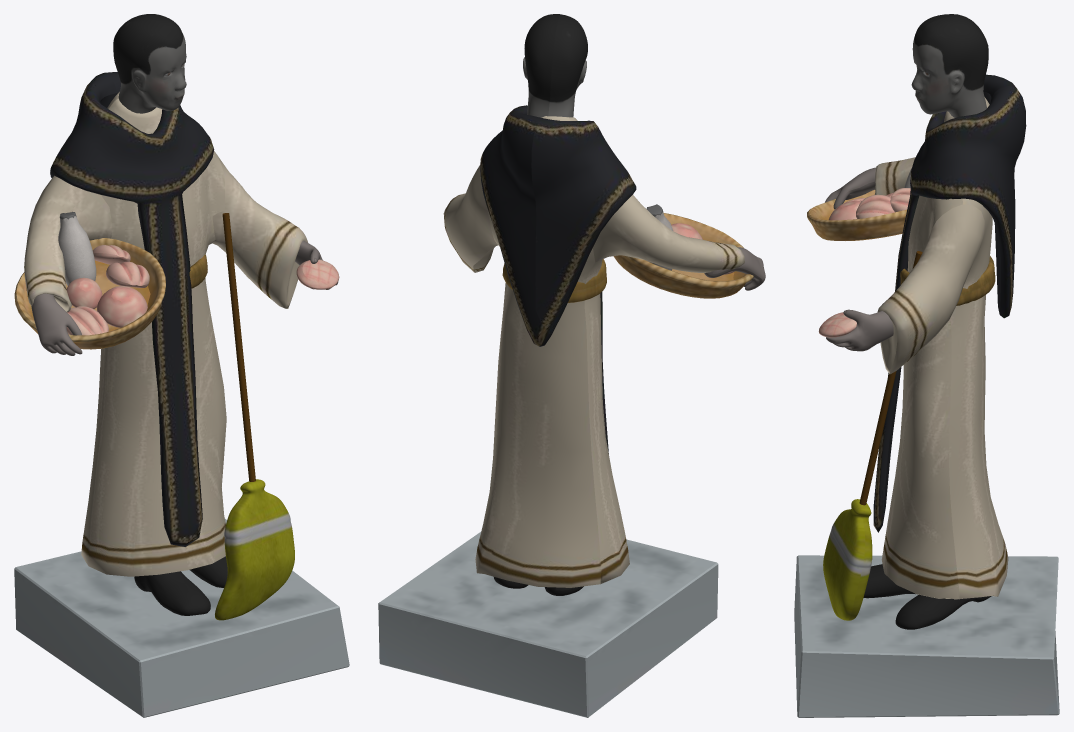
Rendered from scan-martino.glb.
3 views of the same model, side by side, from view 1: azimuth 30°, elevation 25°; view 2: azimuth 150°, elevation 25°; view 3: azimuth 270°, elevation 25° (orthographic). The views are drawn at different scales.
Visible parts, largest first — view 1: geometry_1, geometry_0, geometry_4, geometry_3, geometry_2; view 2: geometry_1, geometry_0, geometry_4, geometry_2; view 3: geometry_1, geometry_0, geometry_4, geometry_3, geometry_2.
Boxes of the visible parts, x1,y1,x2,y2 form: geometry_1: [14, 91, 349, 717]; geometry_0: [50, 14, 214, 546]; geometry_4: [14, 211, 255, 481]; geometry_3: [215, 479, 294, 620]; geometry_2: [31, 240, 339, 355]; geometry_1: [378, 116, 744, 717]; geometry_0: [480, 14, 636, 453]; geometry_4: [613, 204, 753, 298]; geometry_2: [671, 223, 765, 290]; geometry_1: [794, 97, 1059, 717]; geometry_0: [873, 14, 1026, 532]; geometry_4: [807, 168, 922, 505]; geometry_3: [823, 499, 872, 620]; geometry_2: [818, 167, 893, 351].
Bounding box in the file's own units: 0.9669 × 2 × 0.748.
3 materials, 3 textured.
